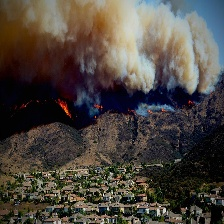fire: (56, 97, 71, 117), (127, 107, 136, 115), (92, 104, 103, 110), (187, 101, 195, 108), (161, 109, 168, 114), (147, 108, 152, 114)
smoke: (1, 1, 212, 94)
